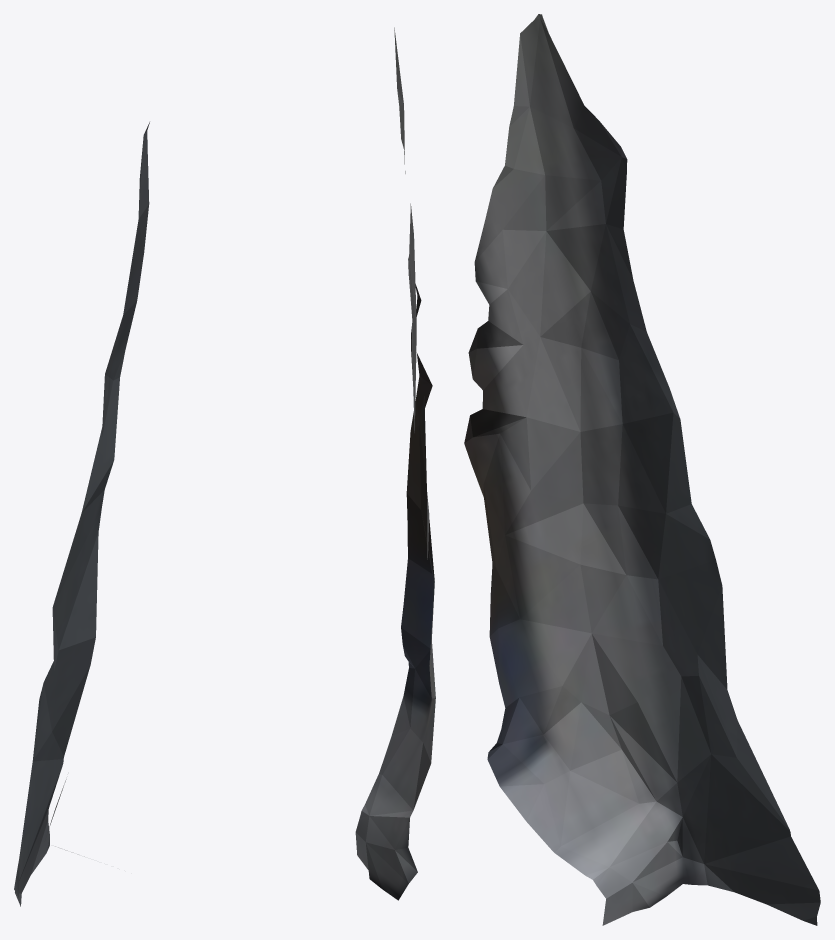
3 views of the same model, side by side, from view 1: azimuth 30°, elevation 25°; view 2: azimuth 150°, elevation 25°; view 3: azimuth 270°, elevation 25° (orthographic). The views are drawn at different scales.
Size of the model in its own units: 0.0563 by 0.4675 by 0.1657.
1 material, 1 textured.
